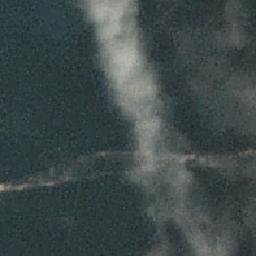cloud: (73, 1, 231, 254)
debris: (1, 179, 54, 191)
